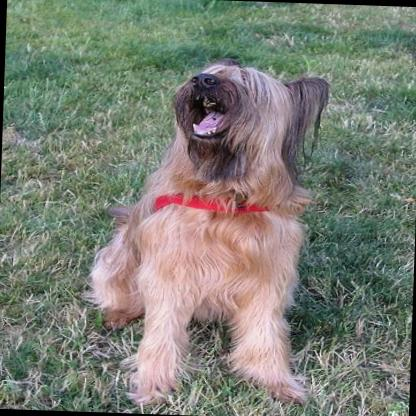briard: (82, 55, 332, 408)
